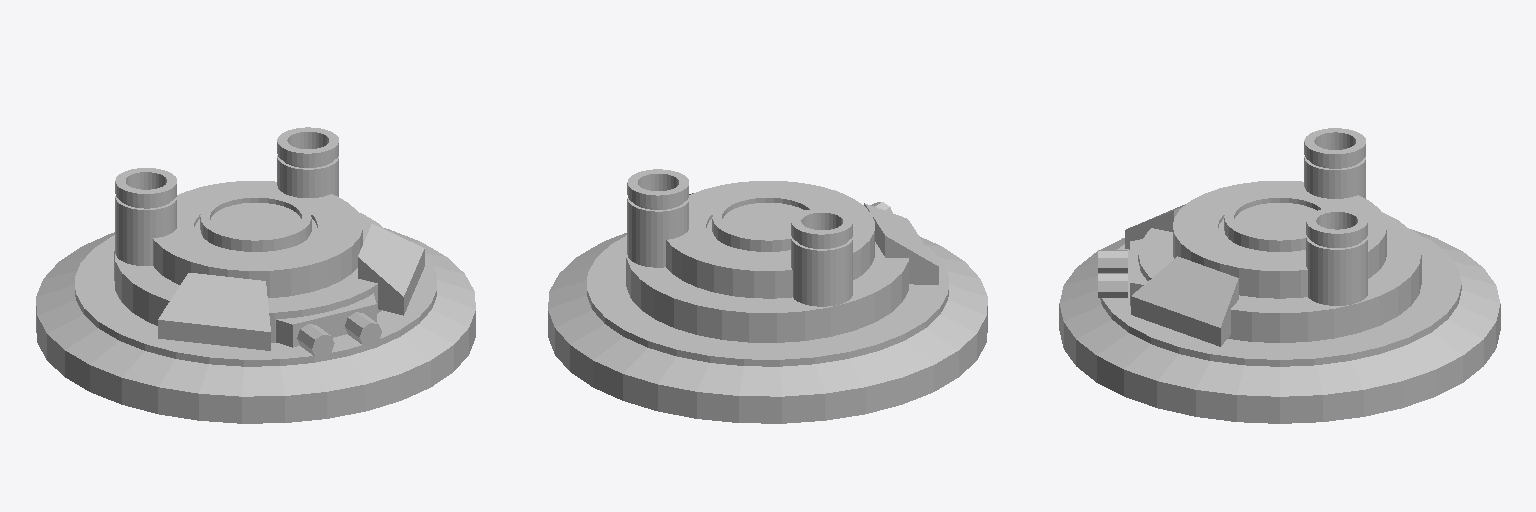
The model's file is commonwealth_frigate.obj.
3 renders of one model, left to right at view 1: azimuth 30°, elevation 25°; view 2: azimuth 150°, elevation 25°; view 3: azimuth 270°, elevation 25°, orthographic.
Parts seen in each view (by area): view 1: CommonwealthFrigate_Cylinder.017; view 2: CommonwealthFrigate_Cylinder.017; view 3: CommonwealthFrigate_Cylinder.017.
Boxes of the visible parts, x1=… form: CommonwealthFrigate_Cylinder.017: x1=36, y1=127, x2=475, y2=423; CommonwealthFrigate_Cylinder.017: x1=548, y1=169, x2=987, y2=423; CommonwealthFrigate_Cylinder.017: x1=1059, y1=128, x2=1500, y2=423.
Bounding box in the file's own units: 1.11 × 0.4153 × 1.11.